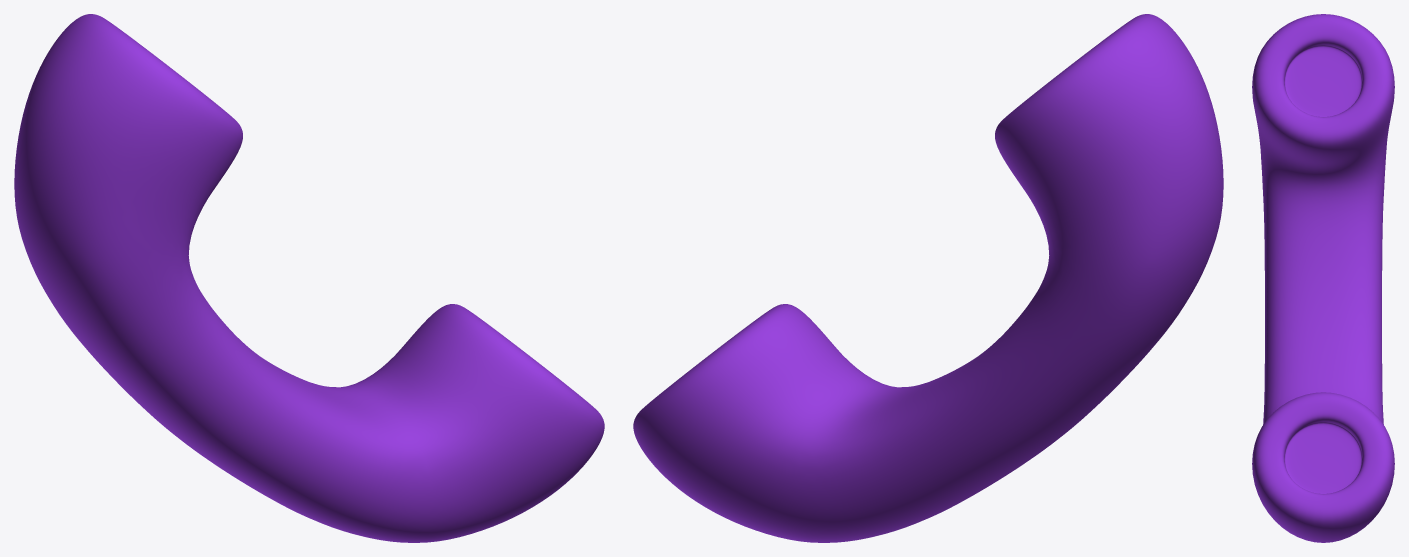
The model's file is contact.fbx.
3 views of the same model, side by side, from view 1: azimuth 30°, elevation 25°; view 2: azimuth 150°, elevation 25°; view 3: azimuth 270°, elevation 25° (orthographic). The views are drawn at different scales.
Parts seen in each view (by area): view 1: phone; view 2: phone; view 3: phone.
Part boxes in pixels (x1,y1,x2,y2): phone: (14, 14, 604, 542); phone: (633, 14, 1223, 542); phone: (1252, 14, 1394, 542).
Size of the model in its own units: 177 by 177 by 57.44.
